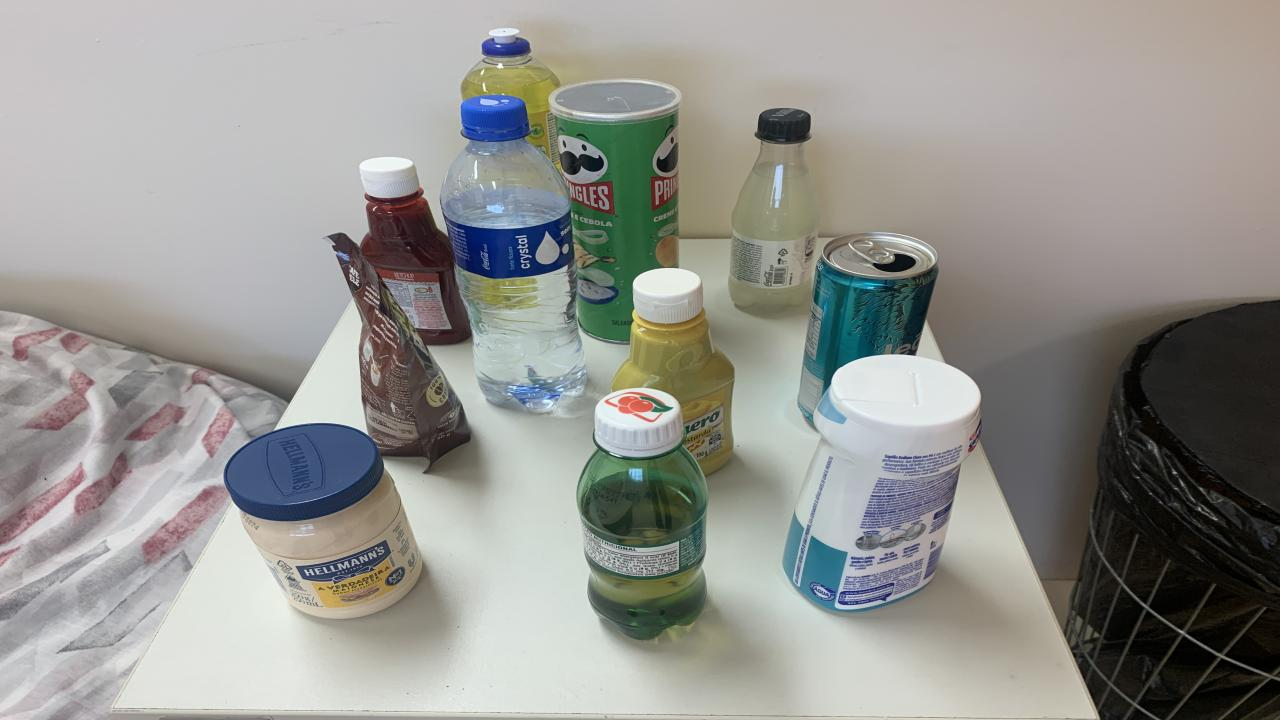Cleaner-Cleanup_Items: (785, 354, 980, 611)
Coffee-Pantry_Items: (328, 232, 470, 465)
Detergent-Cleanup_Items: (460, 28, 560, 165)
Guarana-Drinks: (578, 388, 708, 639)
Ketchup-Pantry_Items: (360, 158, 470, 345), (405, 403, 410, 407)
Mayonnaise-Pantry_Items: (225, 424, 422, 619)
Mustard-Pantry_Items: (612, 268, 735, 474)
Pringles-Snacks: (548, 79, 682, 343)
Soda-Drinks: (728, 109, 820, 315), (630, 212, 632, 214)
Tea-Drinks: (798, 232, 938, 418)
Water_Bottle-Drinks: (440, 94, 585, 412)
